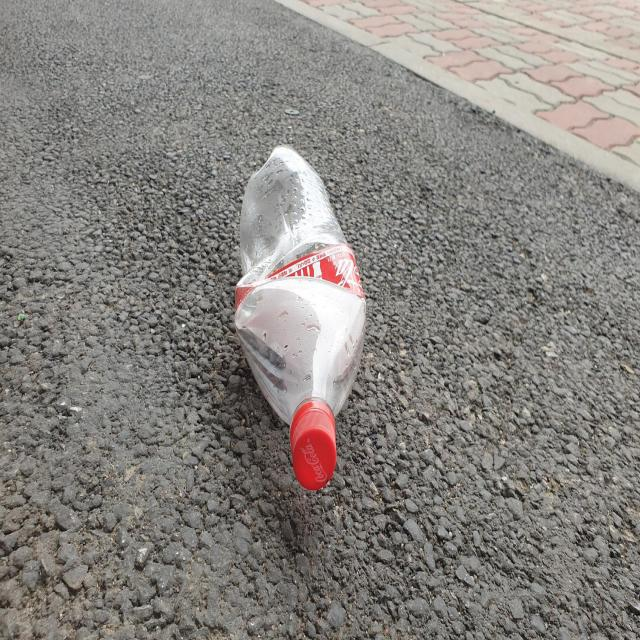plastic: (235, 145, 366, 490)
